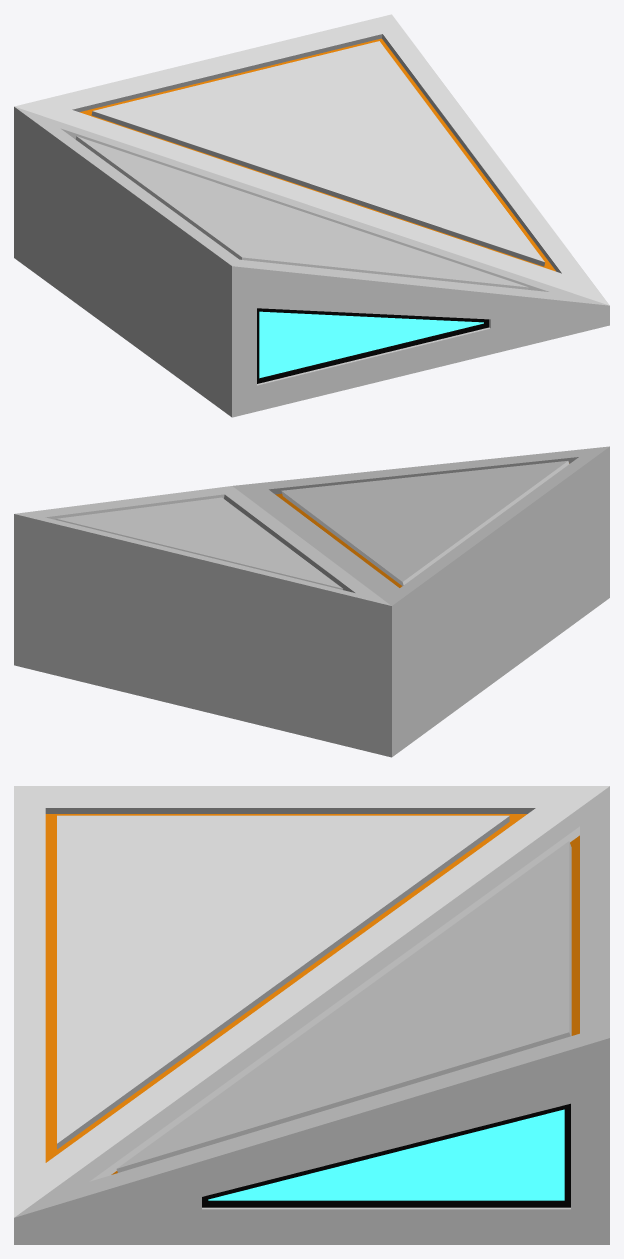
File: SM_Pente_D.glb
The picture shows the model from 3 angles, top to bottom: view 1: azimuth 30°, elevation 25°; view 2: azimuth 150°, elevation 25°; view 3: azimuth 270°, elevation 25°; orthographic projection. The views are drawn at different scales.
Visible parts, largest first — view 1: SM_Pente_D; view 2: SM_Pente_D; view 3: SM_Pente_D.
Part boxes in pixels (x1,y1,x2,y2): SM_Pente_D: (14, 14, 609, 417); SM_Pente_D: (14, 446, 609, 757); SM_Pente_D: (14, 786, 609, 1244).
Size of the model in its own units: 4 by 1.53 by 4.
